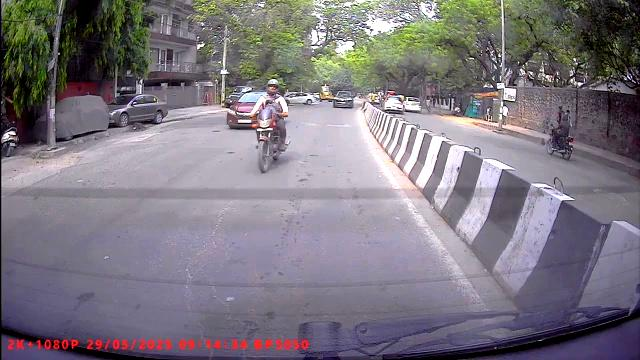motorcycle_with_helmet: (251, 77, 290, 175)
